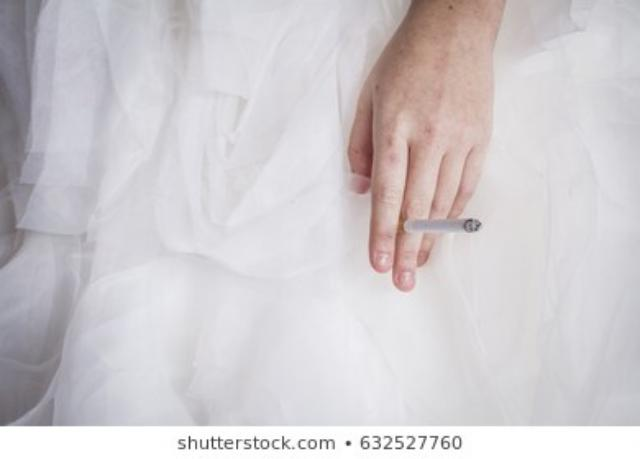Cigarette: (397, 214, 491, 234)
